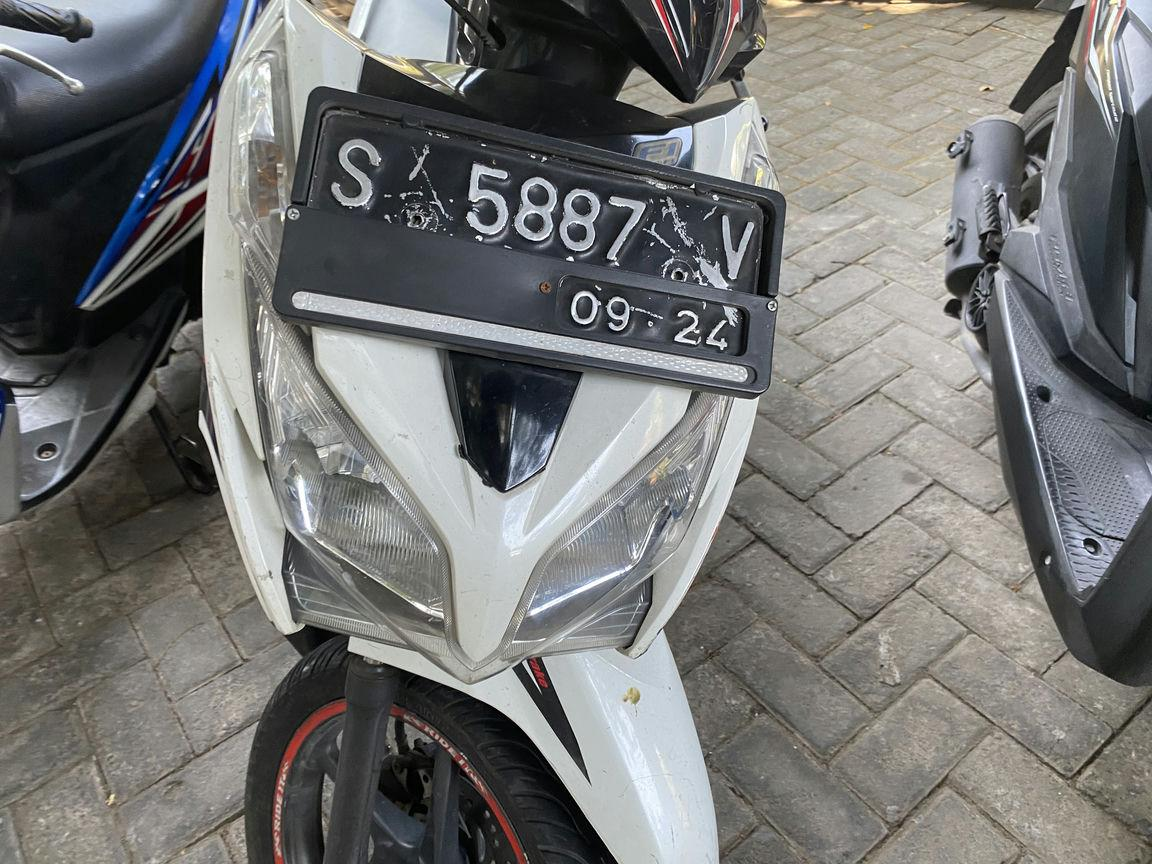plat: (272, 88, 785, 396)
